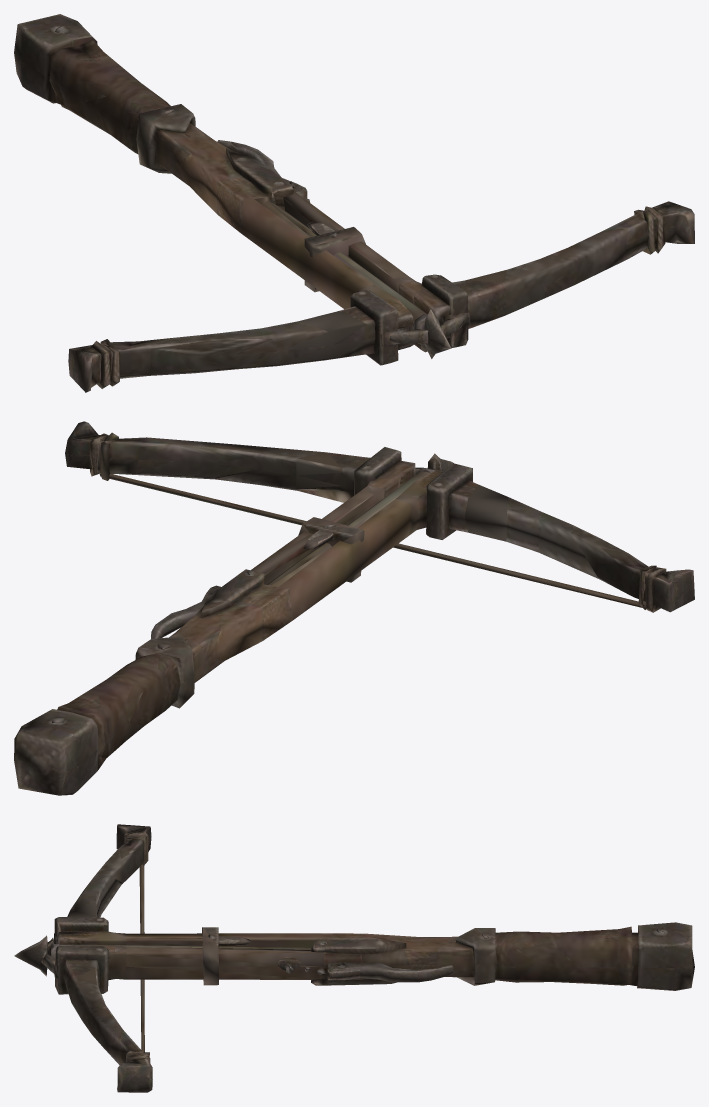
Rendered from skeleton_crossbow.glb.
The picture shows the model from 3 angles, top to bottom: view 1: azimuth 30°, elevation 25°; view 2: azimuth 150°, elevation 25°; view 3: azimuth 270°, elevation 25°; orthographic projection. The views are drawn at different scales.
Parts seen in each view (by area): view 1: skeleton_crossbow; view 2: skeleton_crossbow; view 3: skeleton_crossbow.
Boxes of the visible parts, x1,y1,x2,y2 form: skeleton_crossbow: (14, 14, 694, 392); skeleton_crossbow: (14, 421, 694, 795); skeleton_crossbow: (14, 824, 694, 1092).
Size of the model in its own units: 1.11 by 0.1141 by 1.3.
1 material, 1 textured.
